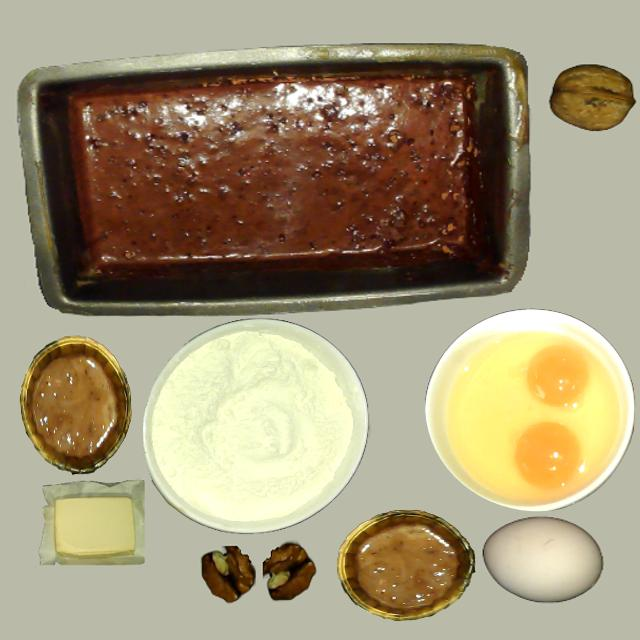Egg: (514, 422, 580, 488), (526, 345, 590, 407)
Flour: (143, 319, 365, 534)
Walnut: (550, 64, 634, 131)
